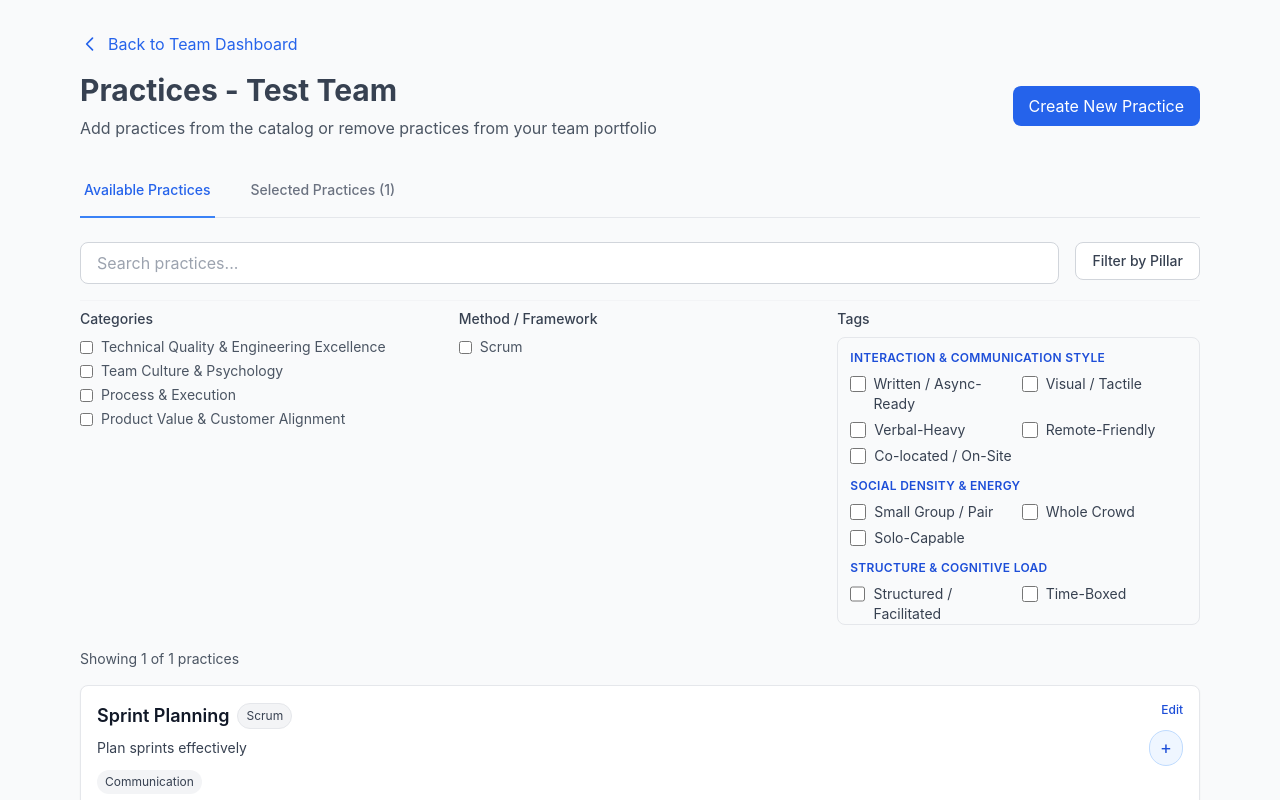
Test: ManagePracticesView › adds practice and shows success message
Click the button named "add to team" at [1166, 748], box [1149,730,1183,766]
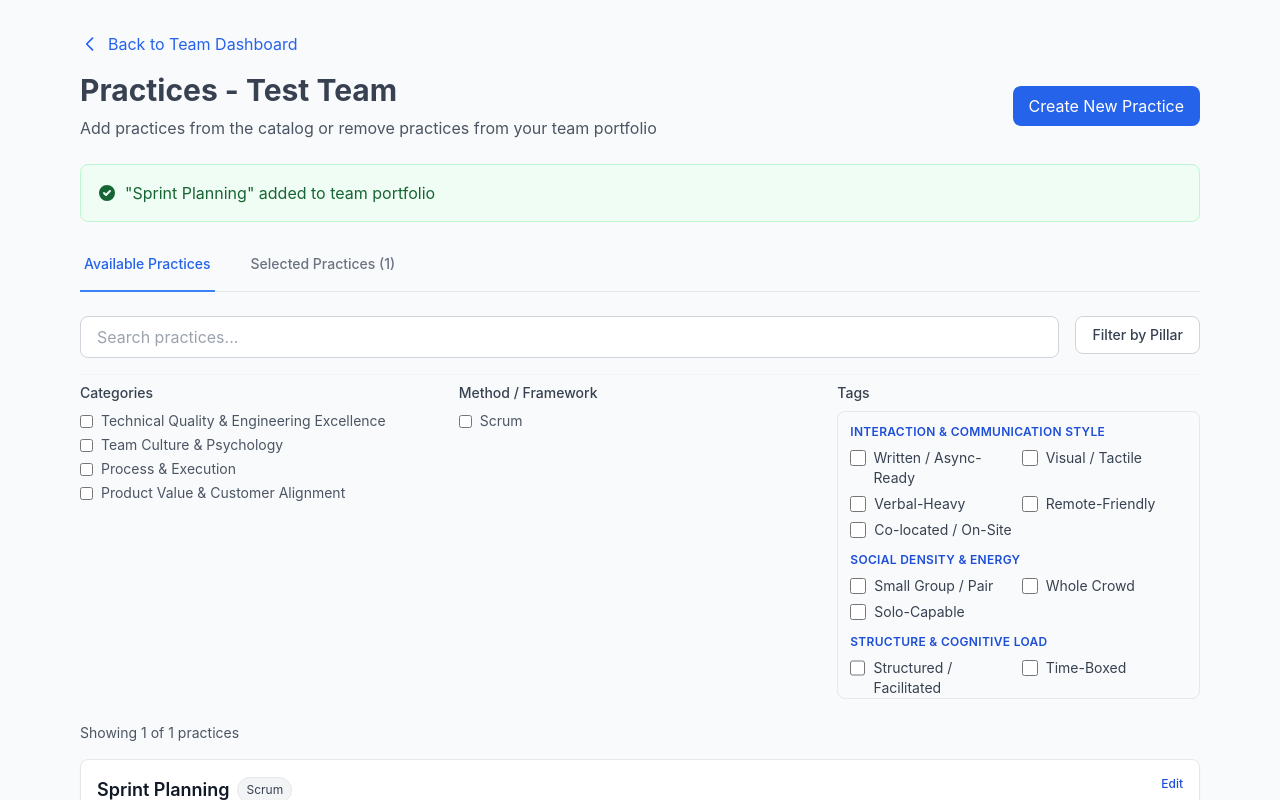
Result: the text "\"Sprint Planning\" added to team portfolio" is shown at [97,183,435,203]
